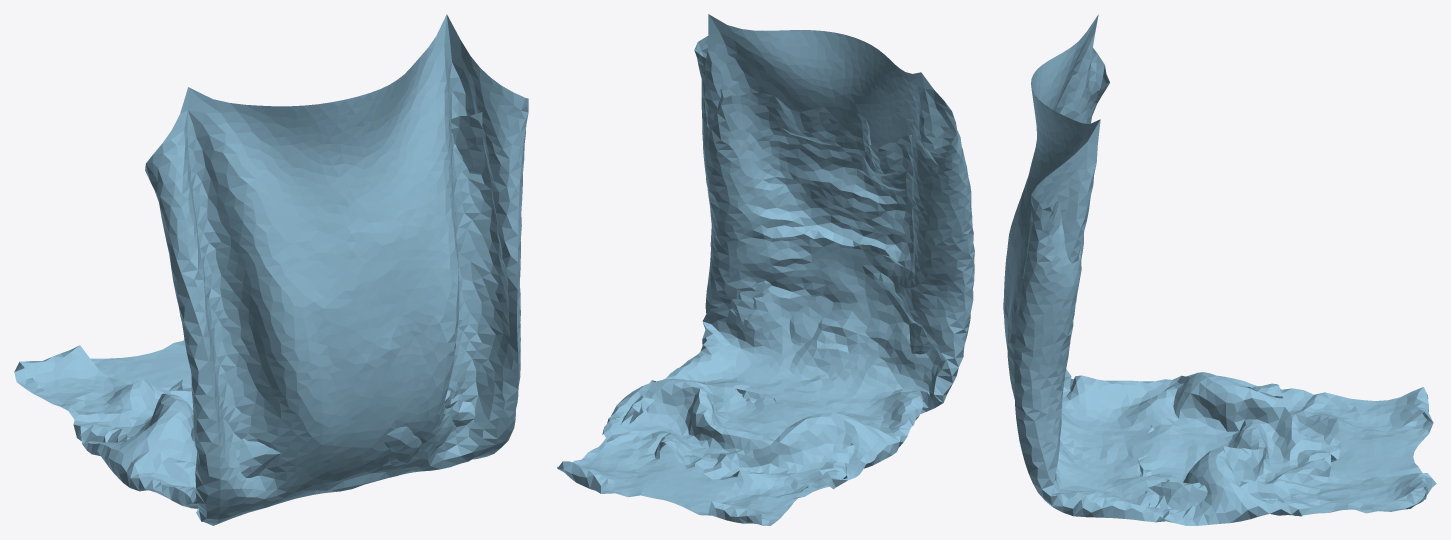
File: frame_11.glb
3 views of the same model, side by side, from view 1: azimuth 30°, elevation 25°; view 2: azimuth 150°, elevation 25°; view 3: azimuth 270°, elevation 25° (orthographic). The views are drawn at different scales.
Visible parts, largest first — view 1: frame_11.obj; view 2: frame_11.obj; view 3: frame_11.obj.
Boxes of the visible parts, <box> form: frame_11.obj: <box>14,14,528,525</box>; frame_11.obj: <box>557,14,974,525</box>; frame_11.obj: <box>1003,14,1436,525</box>.
Size of the model in its own units: 0.8893 by 1.08 by 1.07.
